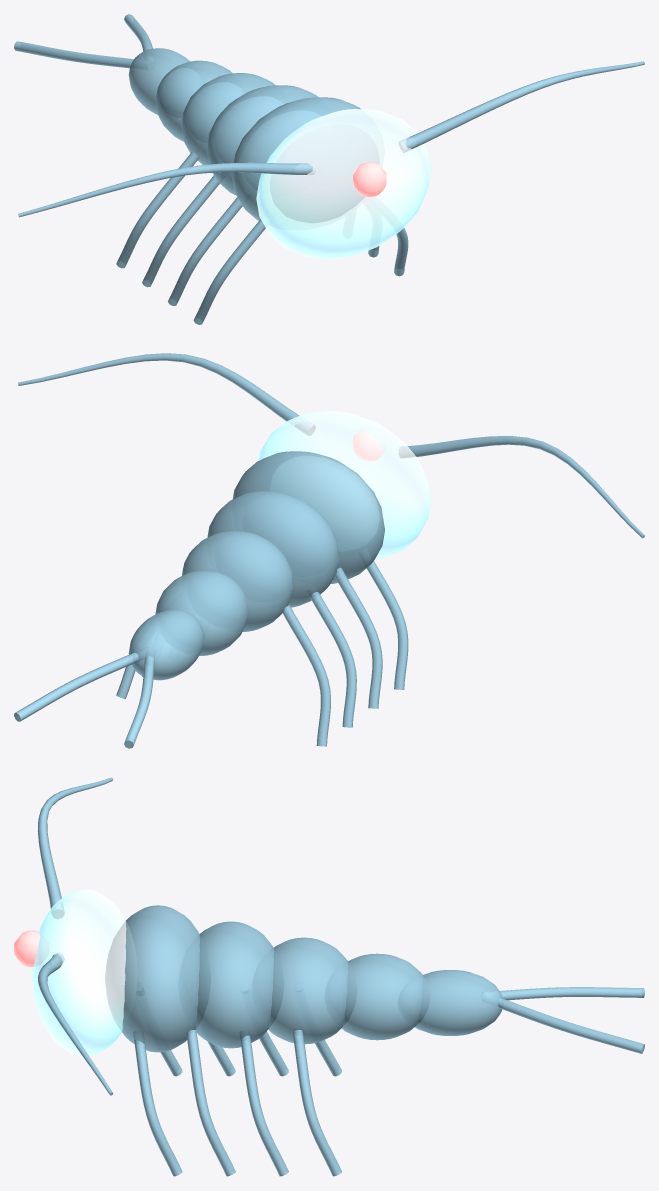
The model's file is E31_Copepod.glb.
The picture shows the model from 3 angles, top to bottom: view 1: azimuth 30°, elevation 25°; view 2: azimuth 150°, elevation 25°; view 3: azimuth 270°, elevation 25°; orthographic projection. The views are drawn at different scales.
Visible parts, largest first — view 1: E31_Copepod_Mesh; view 2: E31_Copepod_Mesh; view 3: E31_Copepod_Mesh.
Part boxes in pixels (<box>): E31_Copepod_Mesh: <box>14,14,644,324</box>; E31_Copepod_Mesh: <box>14,353,644,748</box>; E31_Copepod_Mesh: <box>14,777,644,1176</box>.
Size of the model in its own units: 5.61 by 1.9 by 4.75.
